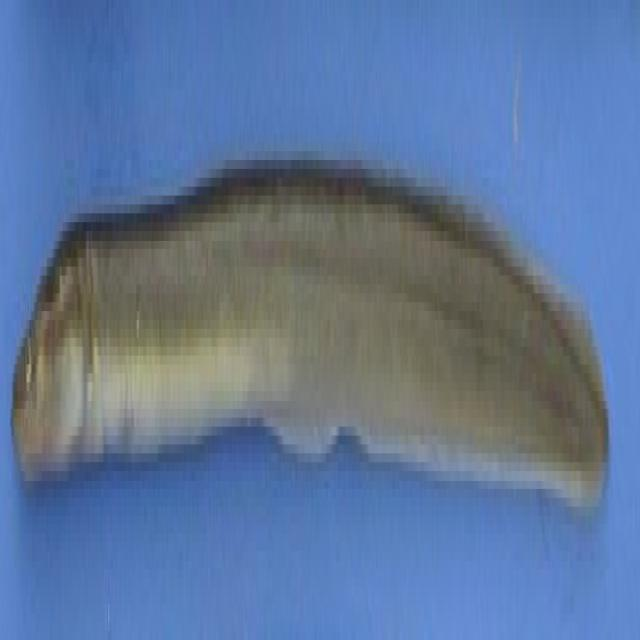Freshwater-Eel: (0, 142, 638, 631)
